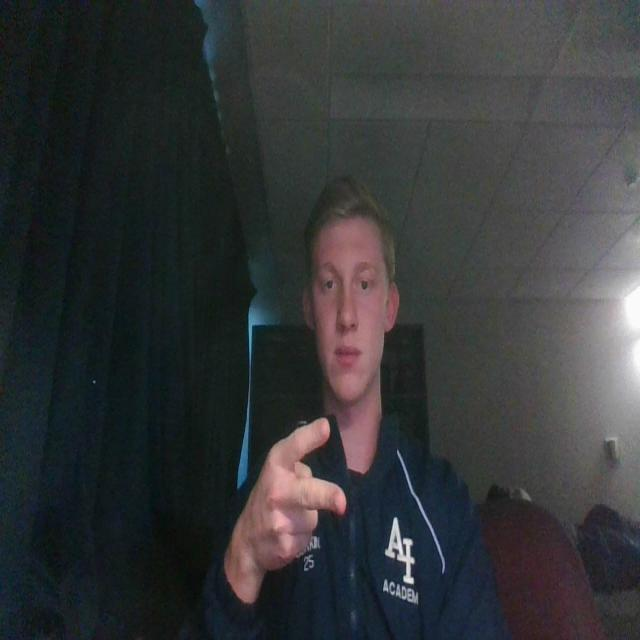scissors: (239, 414, 350, 583)
